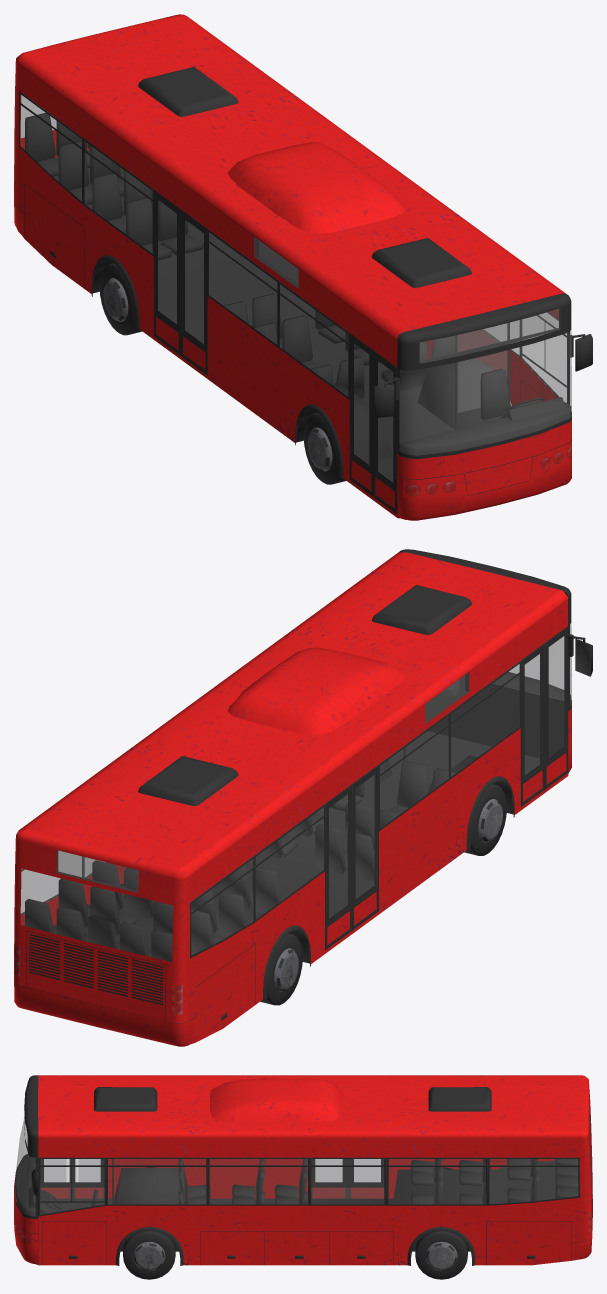
Rendered from gongjiaoche.FBX.
The picture shows the model from 3 angles, top to bottom: view 1: azimuth 30°, elevation 25°; view 2: azimuth 150°, elevation 25°; view 3: azimuth 270°, elevation 25°; orthographic projection. The views are drawn at different scales.
Parts seen in each view (by area): view 1: gongjiaoche; view 2: gongjiaoche; view 3: gongjiaoche.
Boxes of the visible parts, <box> form: gongjiaoche: <box>14,14,592,520</box>; gongjiaoche: <box>14,549,592,1046</box>; gongjiaoche: <box>14,1075,592,1279</box>.
Bounding box in the file's own units: 385 × 382 × 1245.
5 materials, 4 textured.
